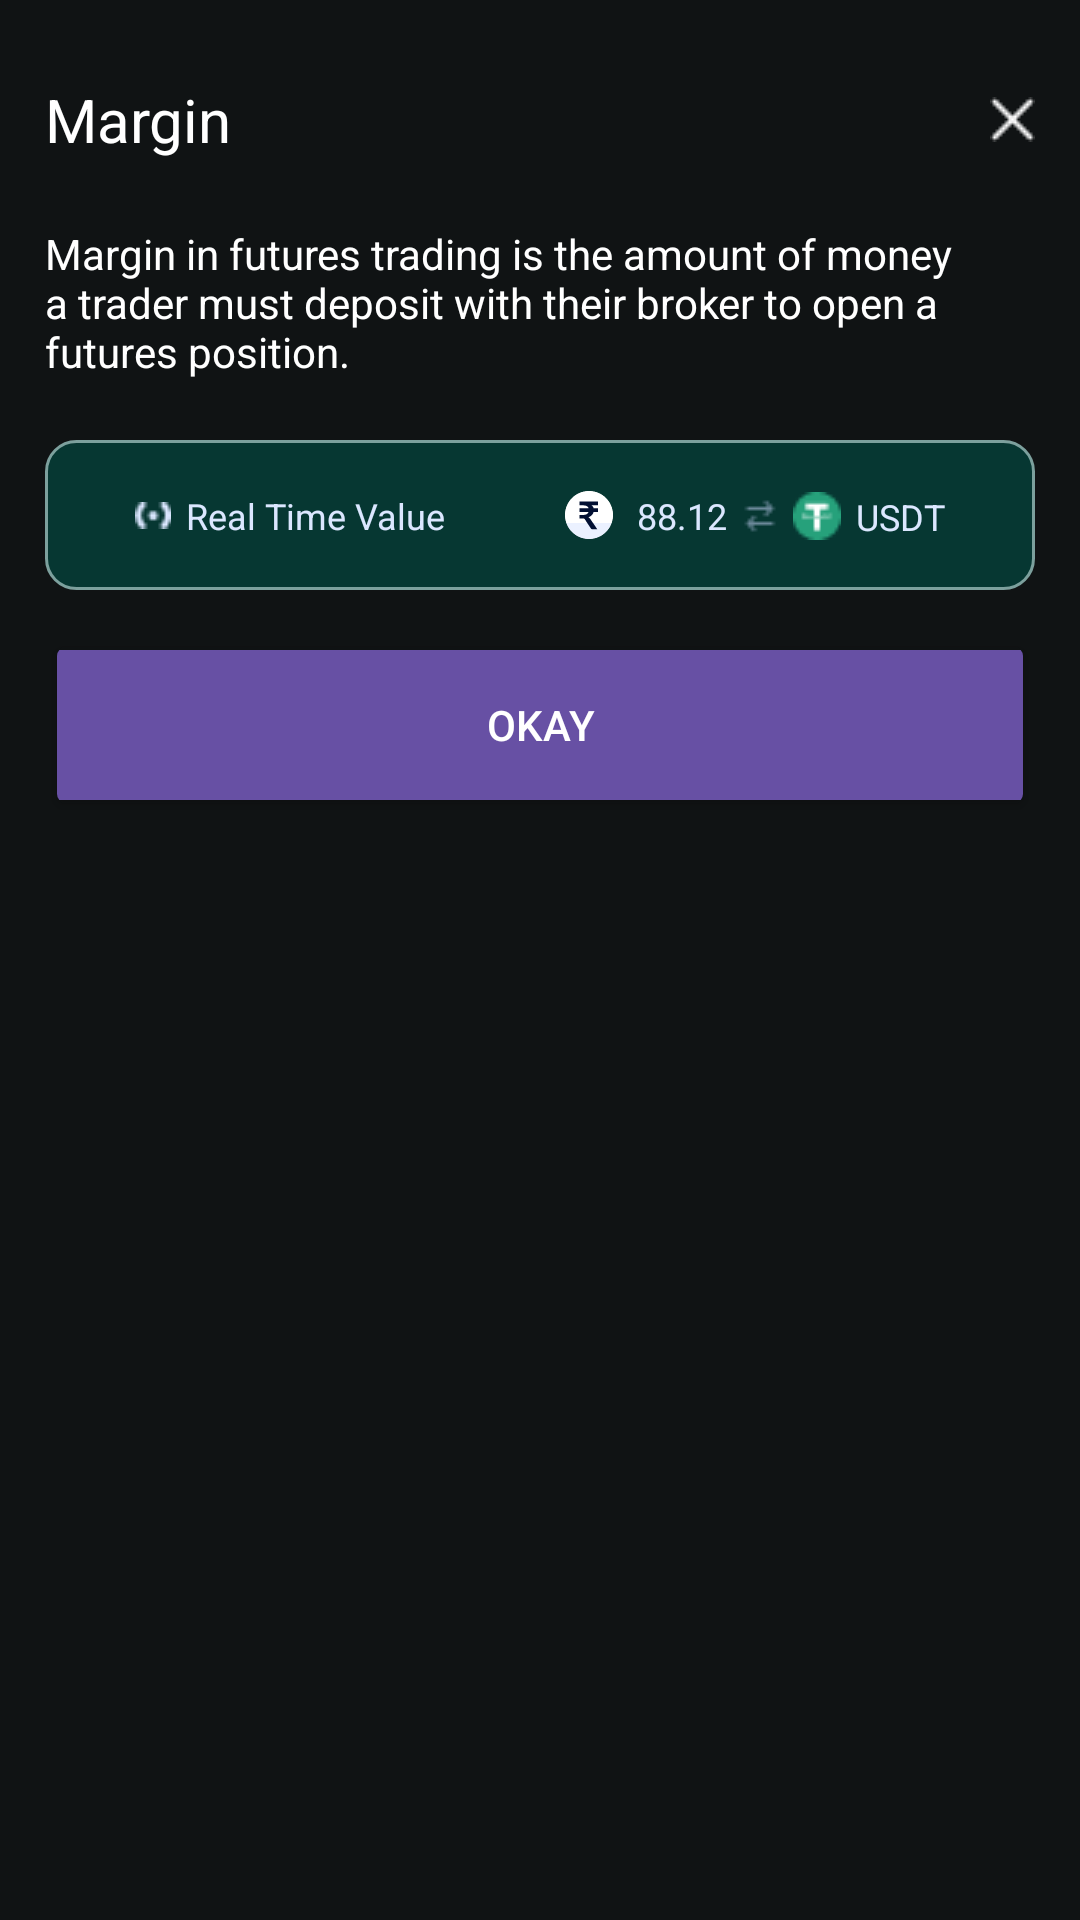

Point at icon controls on the screen. Image size 1080*1920, points as point (x, y).
exchange: point (760, 516)
